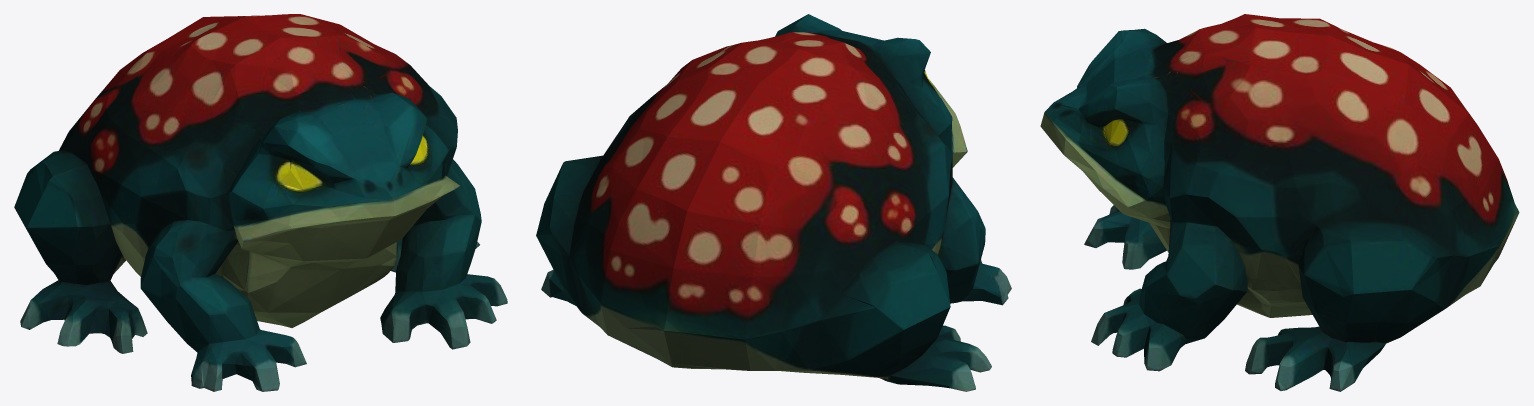
The model's file is monstre_elite_crapaud.glb.
The picture shows the model from 3 angles, left to right: view 1: azimuth 30°, elevation 25°; view 2: azimuth 150°, elevation 25°; view 3: azimuth 270°, elevation 25°; orthographic projection. The views are drawn at different scales.
Visible parts, largest first — view 1: geometry_0; view 2: geometry_0; view 3: geometry_0.
Part boxes in pixels (x1,y1,x2,y2): geometry_0: (14, 14, 507, 391); geometry_0: (536, 14, 1011, 391); geometry_0: (1040, 14, 1519, 391).
Bounding box in the file's own units: 0.9944 × 0.6068 × 0.964.
Materials: 1 (1 with a texture image).
